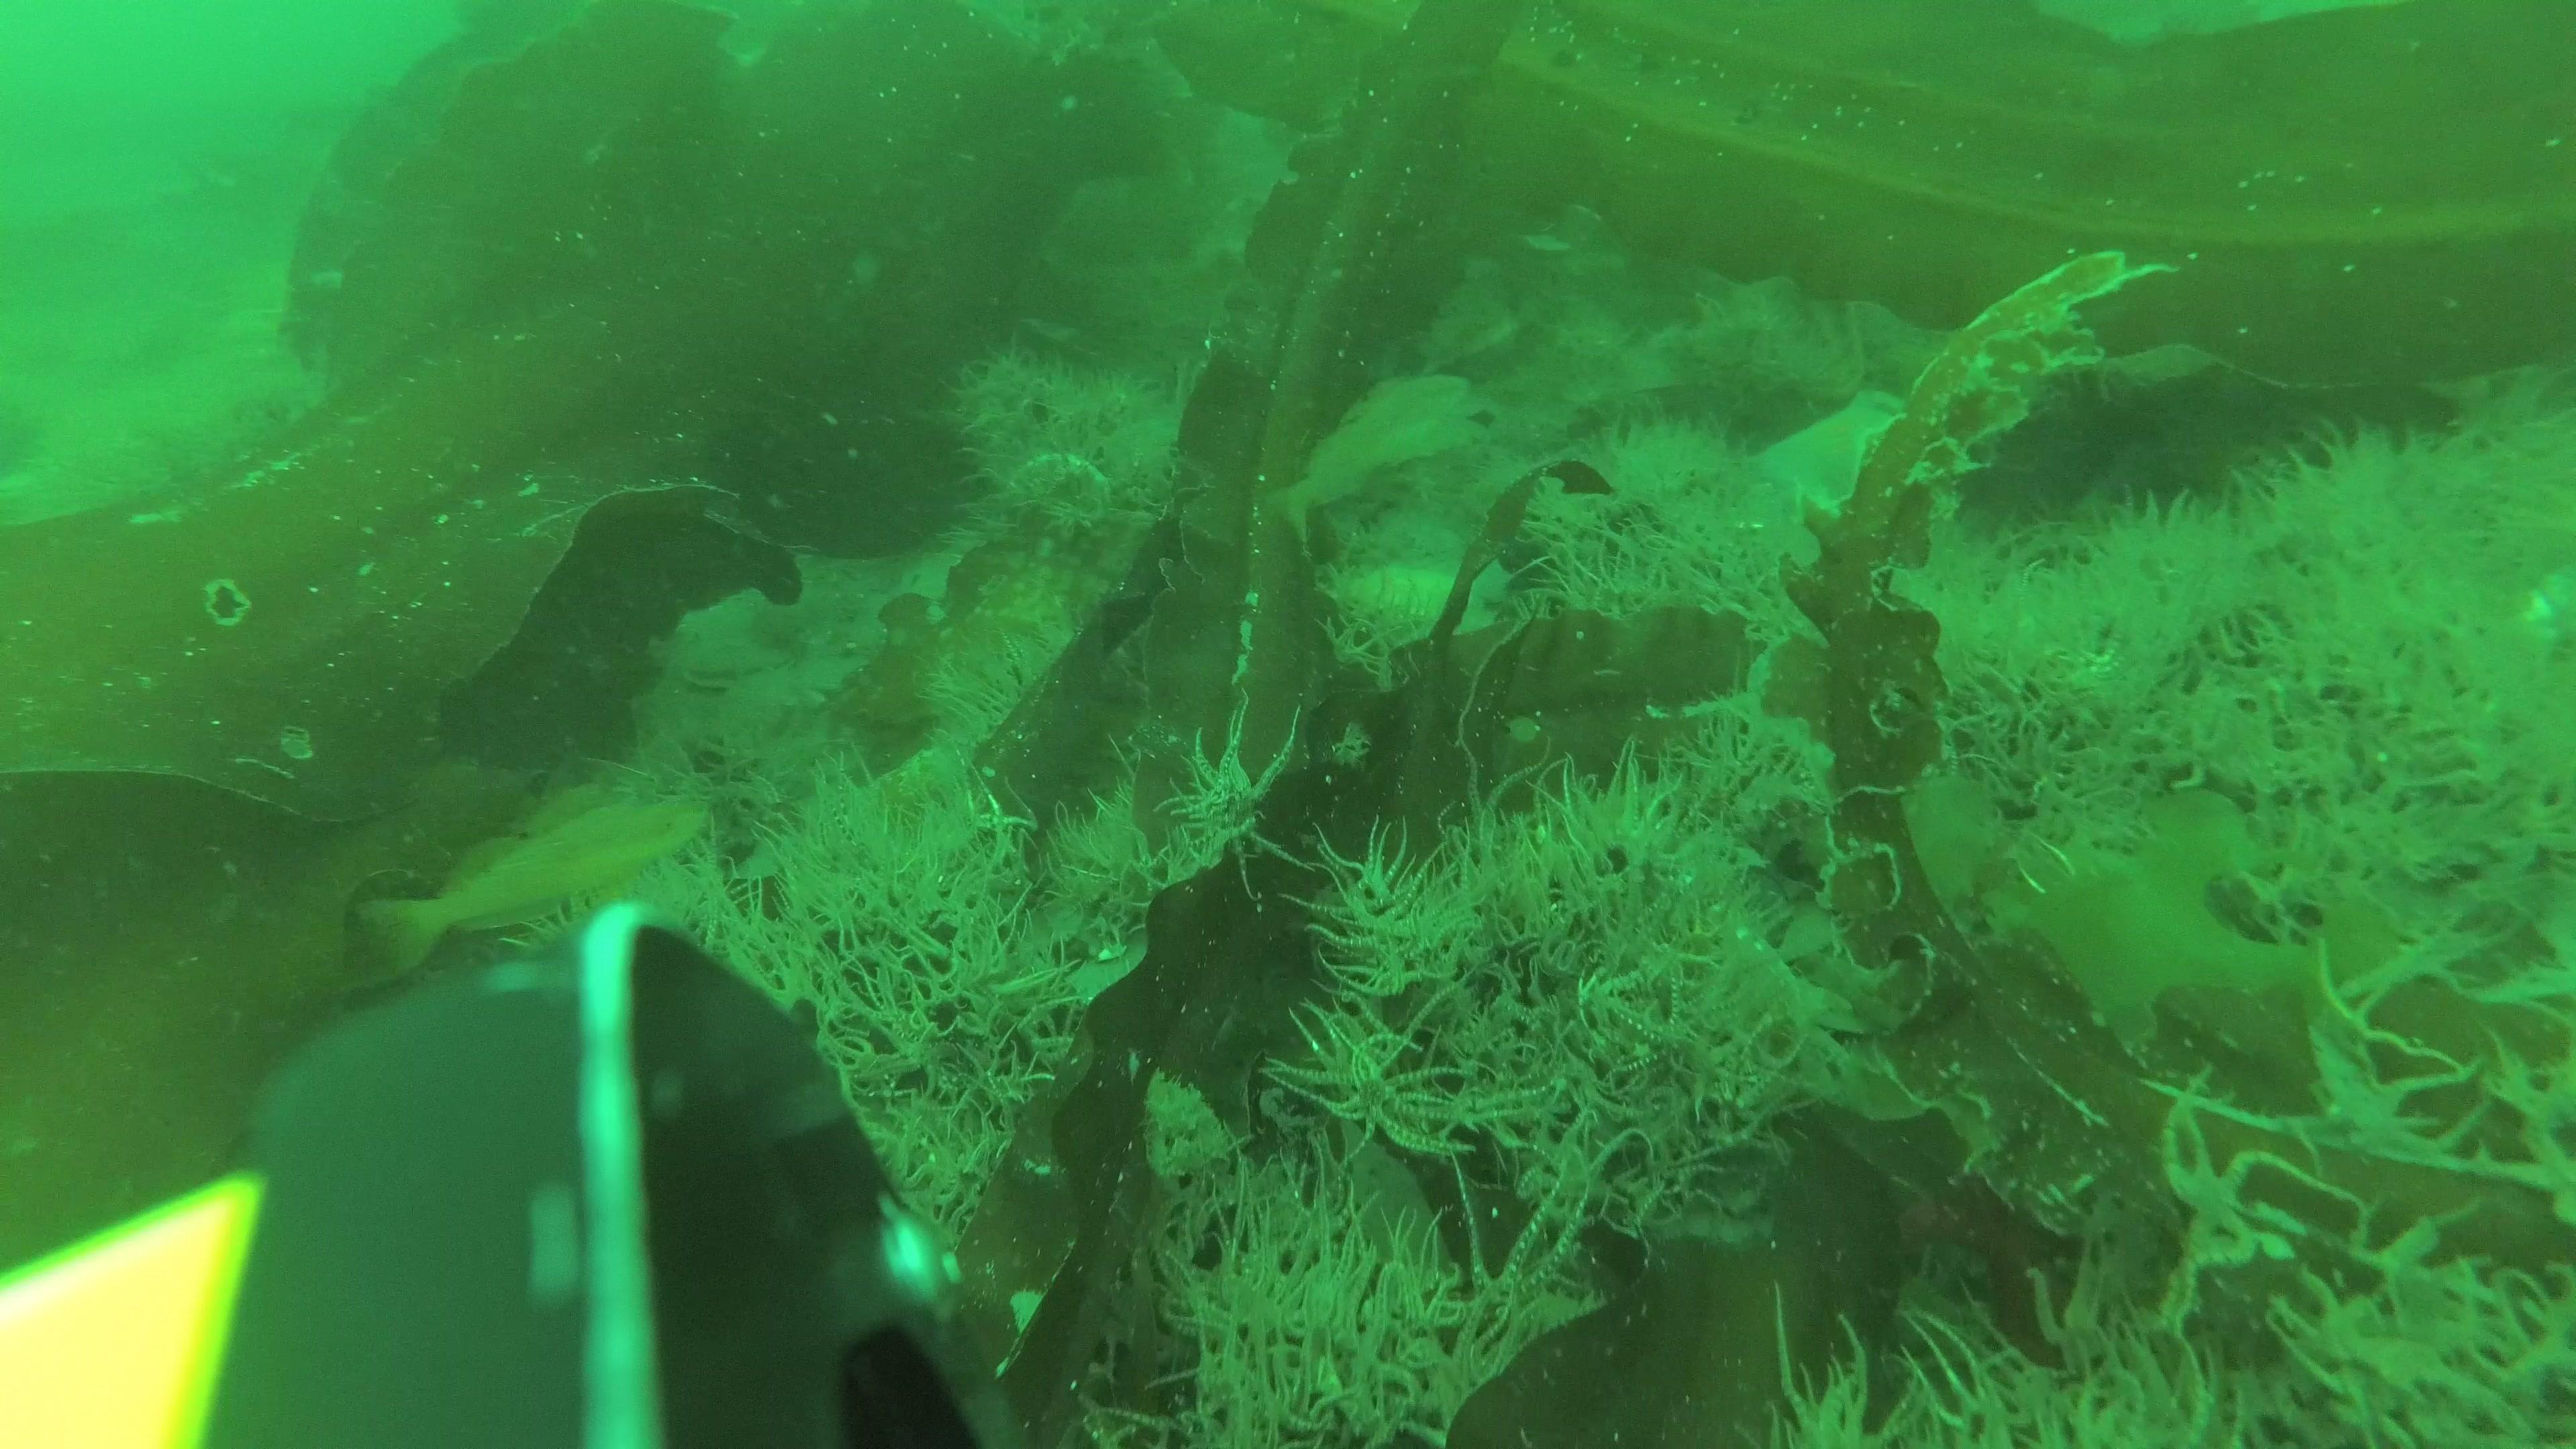starfish: (1769, 386, 1946, 511)
